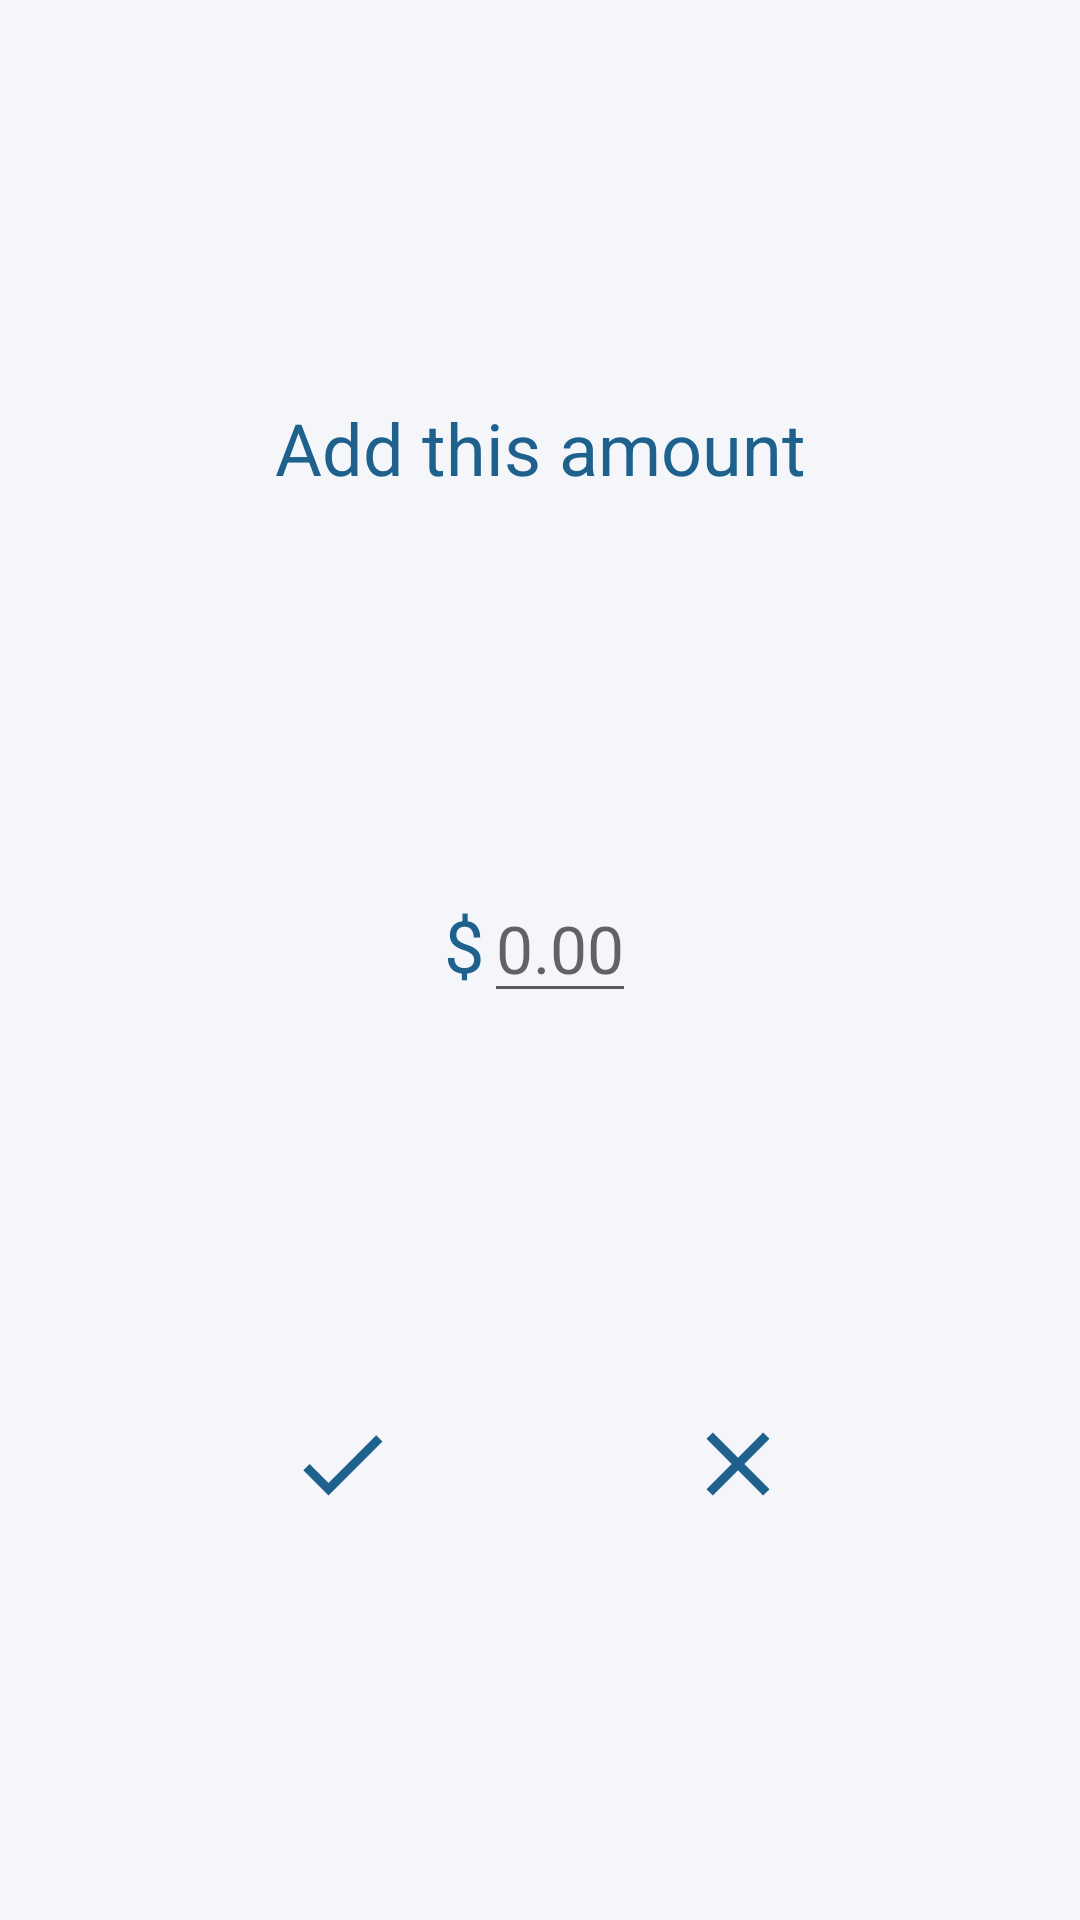

Where icons sit on this 1080px x 1920px app screen, as bbox(x1, y1, x2, y2):
Cancel button: bbox(706, 1432, 770, 1496)
